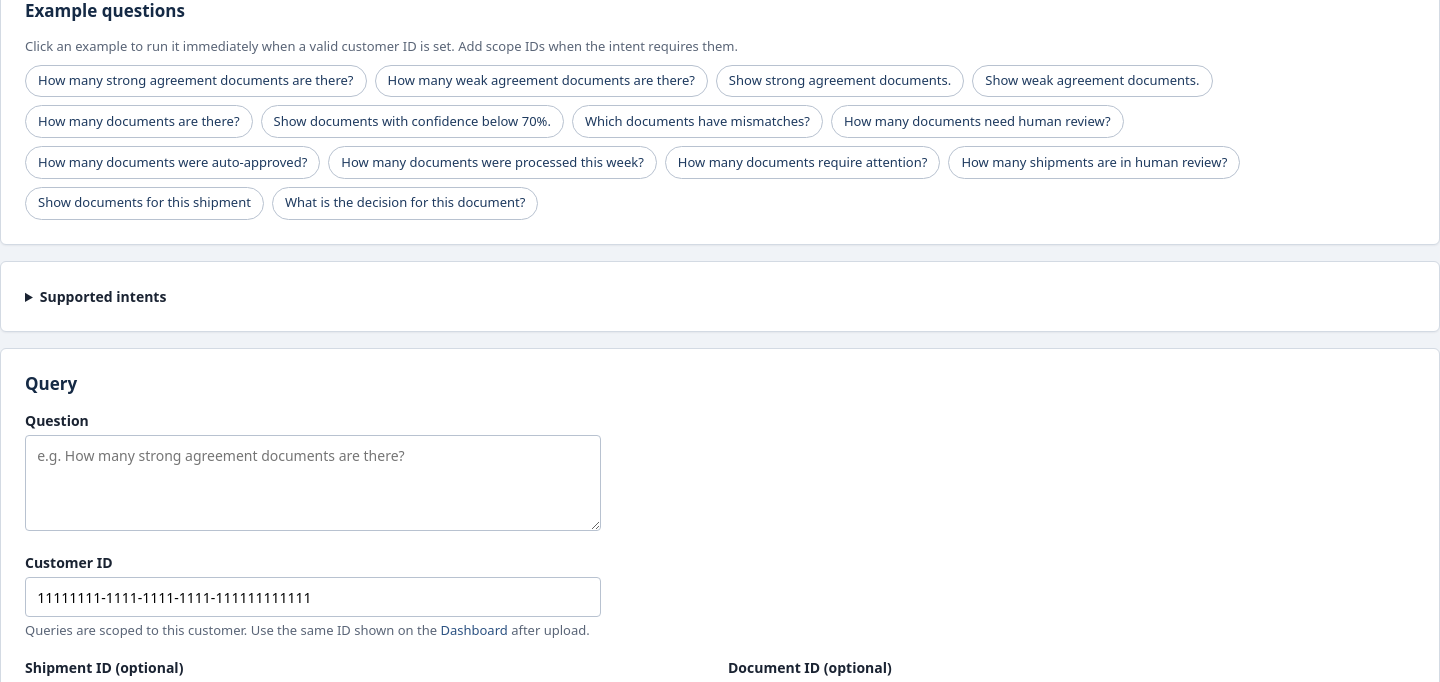
Test: QueryPage › renders EMPTY status with grounded zero-count answer
Type "How many documents were auto approved?" into the text box labelled "Question" at (313, 483), box [25,435,601,531]
(page scrolled)
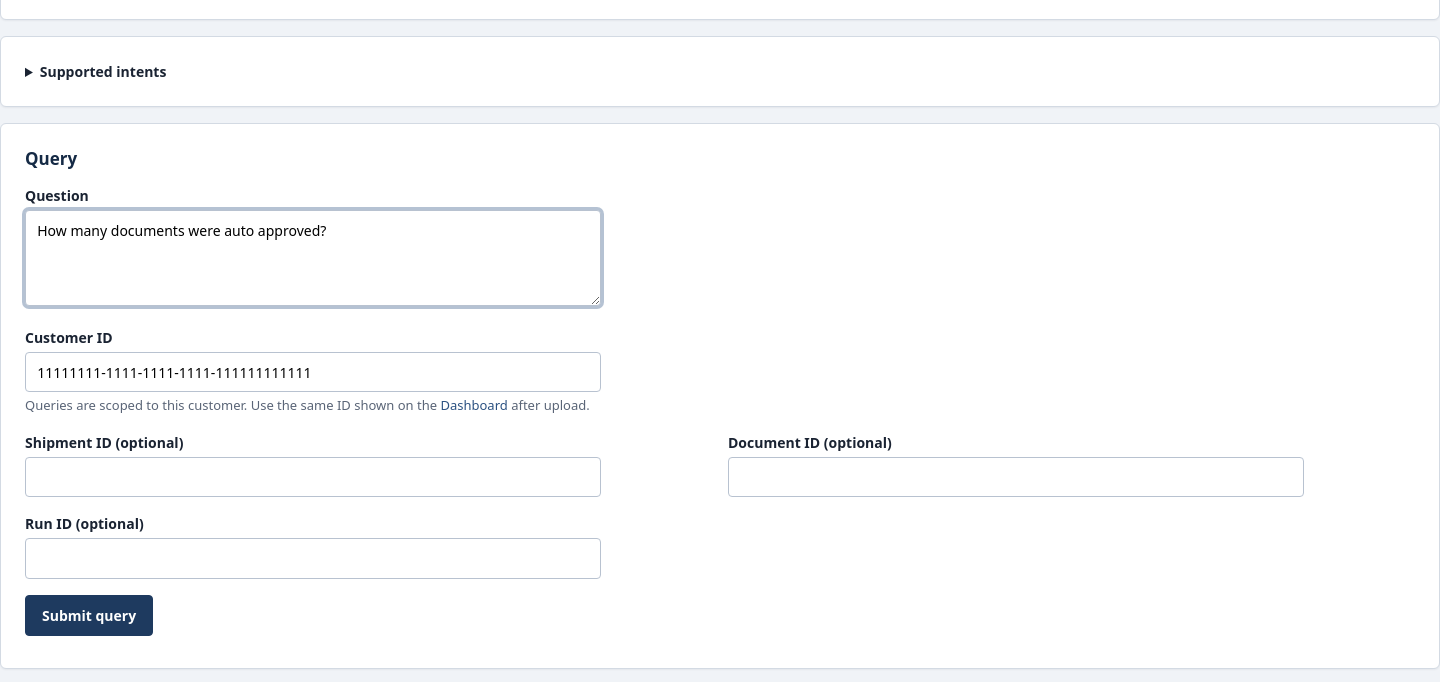
Click the button "Submit query" at (89, 615), box [25,595,153,636]
(page scrolled)
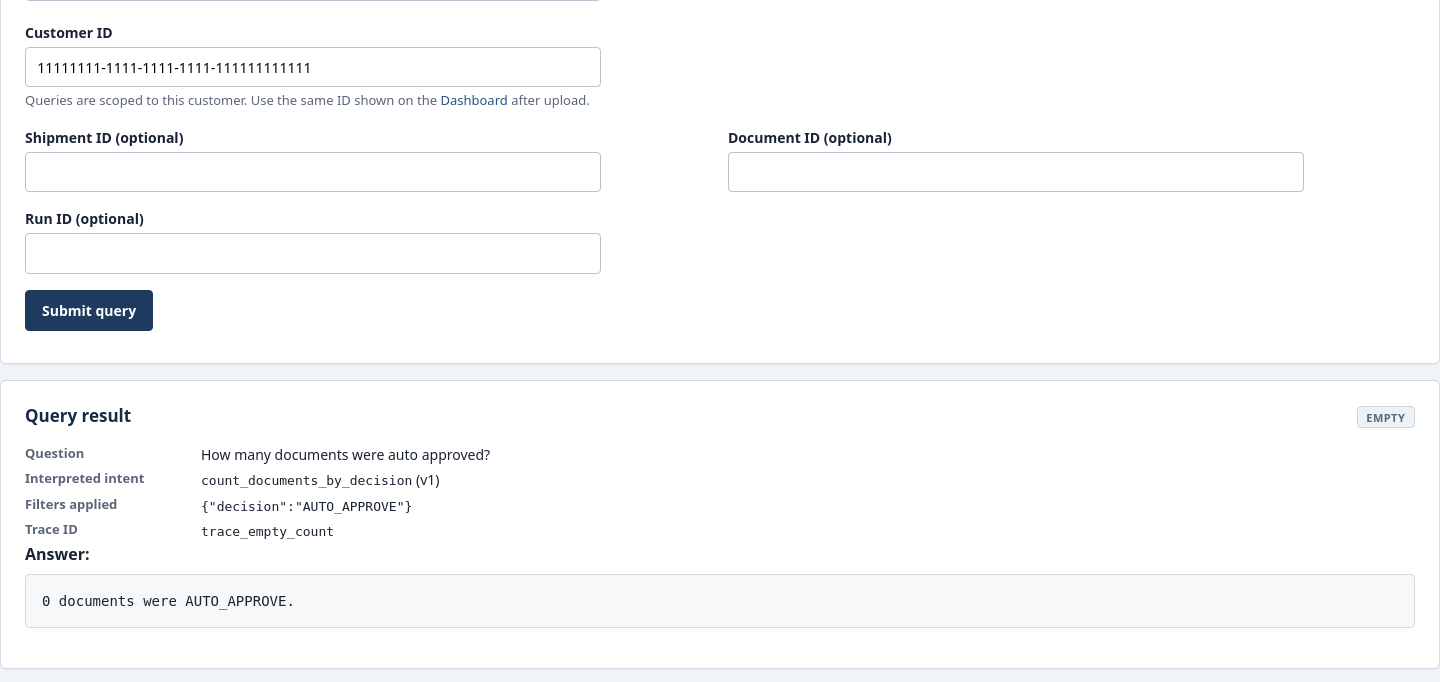
Expected: the text "EMPTY" is shown, [1356,406,1415,428]
Expected: the text "0 documents were AUTO_APPROVE." is shown, [25,574,1415,628]
